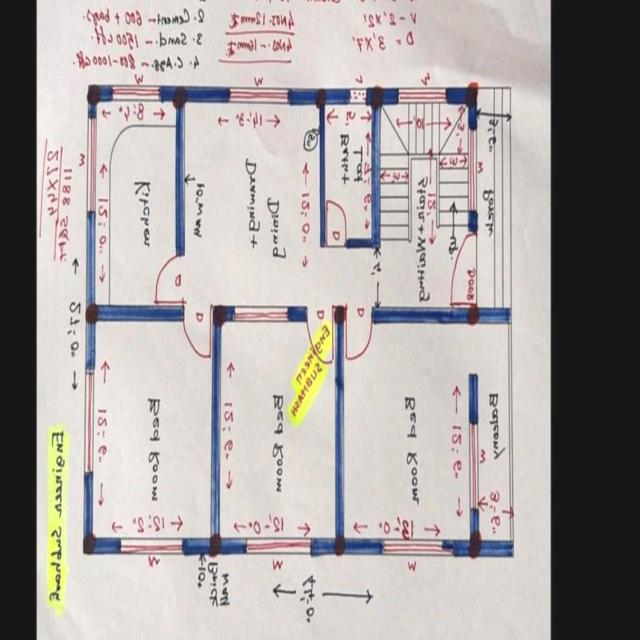column: (205, 294, 228, 332), (78, 525, 98, 565), (204, 526, 224, 564), (81, 301, 103, 335), (170, 78, 190, 115), (82, 78, 102, 112), (464, 532, 484, 565), (328, 302, 348, 332), (369, 82, 385, 118), (462, 80, 478, 114), (314, 82, 328, 115), (330, 532, 346, 560), (464, 302, 480, 330)
